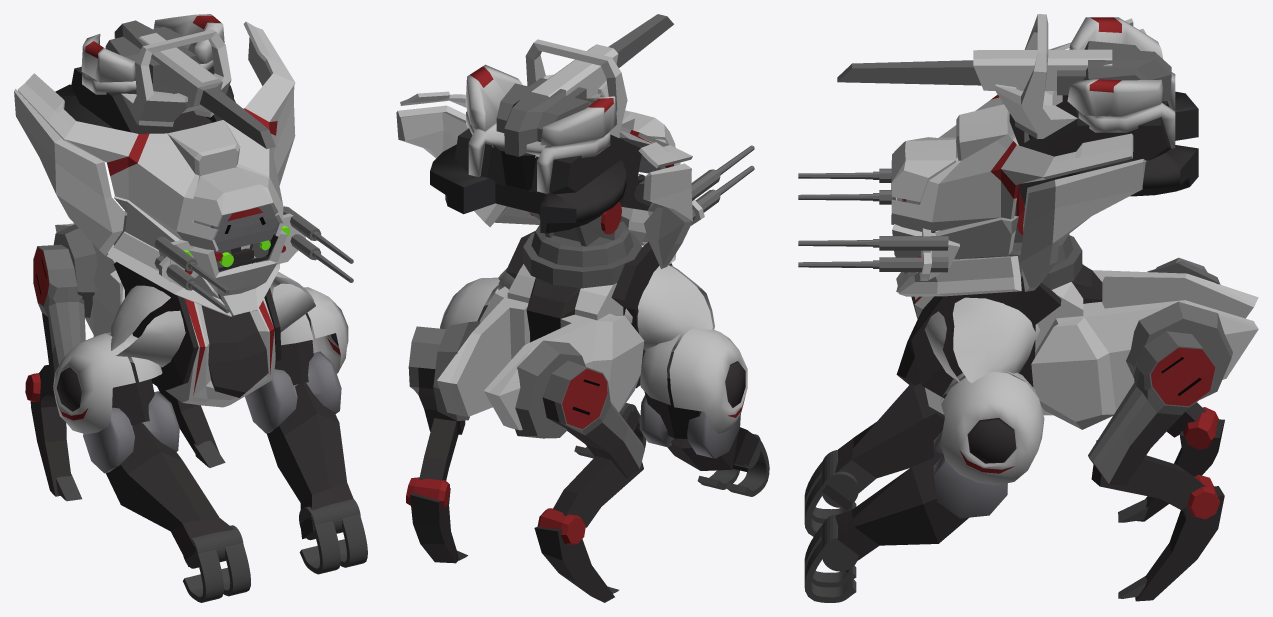
File: Jiro_inc_Blocking_Rig_Edit.fbx
The picture shows the model from 3 angles, left to right: view 1: azimuth 30°, elevation 25°; view 2: azimuth 150°, elevation 25°; view 3: azimuth 270°, elevation 25°; orthographic projection. The views are drawn at different scales.
Parts seen in each view (by area): view 1: wBox.004, wBox.008, wBox.001, wPlane.003, wPlane.001, wPlane.004, wPlane.002, Cylinder.017, wBox.003, Cylinder.003, Cylinder.014, Cube.002 (+5 smaller); view 2: wBox.004, wBox.001, wBox.008, wBox.003, wBox.002, Cylinder.017, Cylinder.016, wPlane.004, wBox.005, Cylinder.015, Cube.002, Cylinder.002 (+5 smaller); view 3: wBox.004, wBox.008, wBox.001, wBox.002, Cylinder.002, wPlane.001, wPlane.003, wBox.003, Cylinder.015, Cylinder.003, Cube, wBox.006 (+5 smaller).
Part boxes in pixels (<box>): wBox.004: <box>14,21,321,316</box>; wBox.008: <box>53,262,348,434</box>; wBox.001: <box>71,14,235,133</box>; wPlane.003: <box>106,423,233,566</box>; wPlane.001: <box>267,382,353,539</box>; wPlane.004: <box>83,362,179,473</box>; wPlane.002: <box>245,313,341,433</box>; Cylinder.017: <box>33,244,85,391</box>; wBox.003: <box>53,223,124,336</box>; Cylinder.003: <box>299,499,367,574</box>; Cylinder.014: <box>183,525,250,602</box>; Cube.002: <box>30,398,71,496</box>; wBox.004: <box>396,91,720,268</box>; wBox.001: <box>455,39,641,194</box>; wBox.008: <box>440,231,747,433</box>; wBox.003: <box>484,313,644,438</box>; wBox.002: <box>433,286,529,420</box>; Cylinder.017: <box>542,360,644,477</box>; Cylinder.016: <box>537,456,643,544</box>; wPlane.004: <box>639,351,740,458</box>; wBox.005: <box>523,232,642,288</box>; Cylinder.015: <box>406,418,458,508</box>; Cube.002: <box>534,526,614,602</box>; Cylinder.002: <box>408,326,465,434</box>; wBox.004: <box>879,18,1198,296</box>; wBox.008: <box>896,263,1102,485</box>; wBox.001: <box>973,14,1175,205</box>; wBox.002: <box>1031,300,1258,429</box>; Cylinder.002: <box>1088,331,1216,485</box>; wPlane.001: <box>835,454,968,572</box>; wPlane.003: <box>823,383,944,510</box>; wBox.003: <box>1092,261,1258,318</box>; Cylinder.015: <box>1091,440,1219,519</box>; Cylinder.003: <box>804,513,858,602</box>; Cube: <box>1135,486,1224,601</box>; wBox.006: <box>837,60,981,85</box>.
Bounding box in the file's own units: 249 × 409 × 325.
